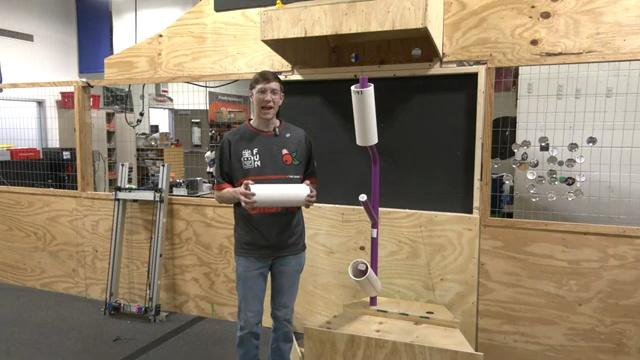CORAL: (349, 78, 378, 146), (247, 182, 310, 207), (348, 258, 382, 298)
